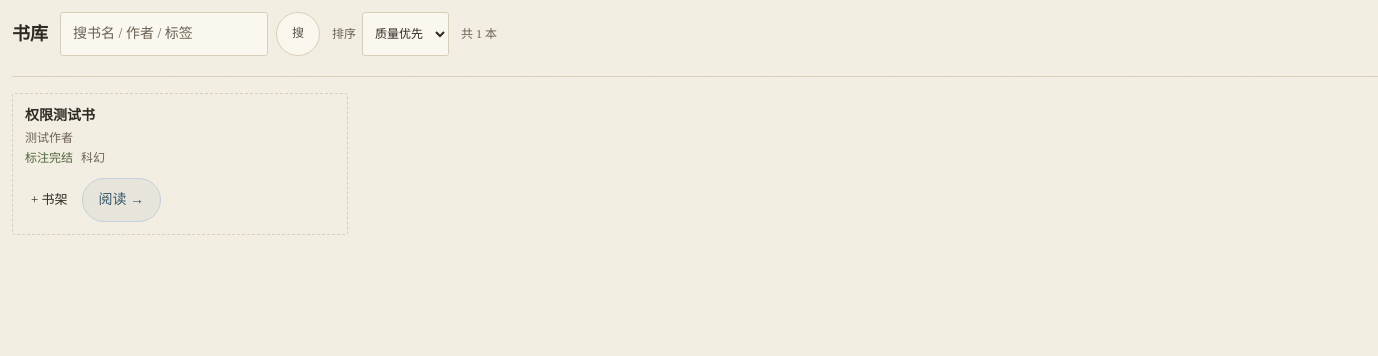
书库详情的下载权限 › 无下载权限时说明原因且不查询私有任务，保留阅读入口（read=false）
The width and height of the screenshot is (1378, 356).
Click the button "权限测试书 测试作者 标注完结 科幻".
click(60, 116)  # box 13,94 -> 346,178
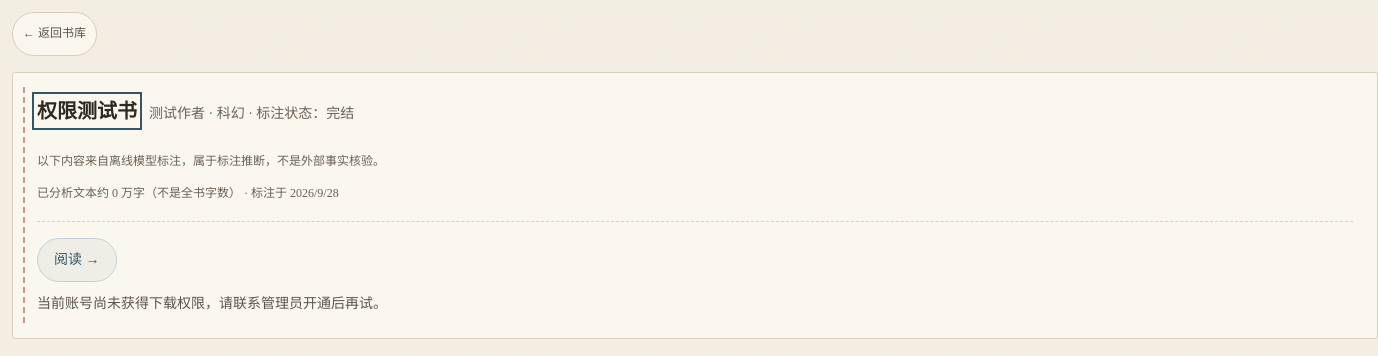
Check: the text "当前账号尚未获得下载权限，请联系管理员开通后再试。" is shown, box 37,296 -> 387,311
